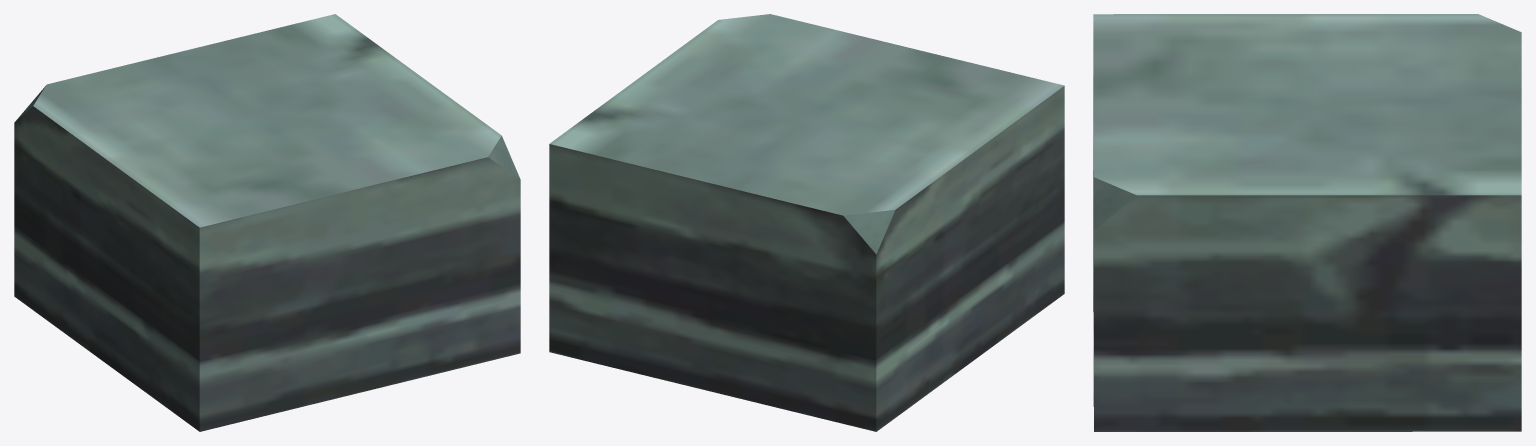
File: crypt_cap_corner_01.fbx
3 views of the same model, side by side, from view 1: azimuth 30°, elevation 25°; view 2: azimuth 150°, elevation 25°; view 3: azimuth 270°, elevation 25° (orthographic). The views are drawn at different scales.
Visible parts, largest first — view 1: crypt_cap_corner_01-0; view 2: crypt_cap_corner_01-0; view 3: crypt_cap_corner_01-0.
Boxes of the visible parts, x1=… form: crypt_cap_corner_01-0: x1=14, y1=14, x2=520, y2=431; crypt_cap_corner_01-0: x1=549, y1=14, x2=1064, y2=431; crypt_cap_corner_01-0: x1=1093, y1=14, x2=1521, y2=431.
Bounding box in the file's own units: 0.9133 × 0.5559 × 0.9109.
